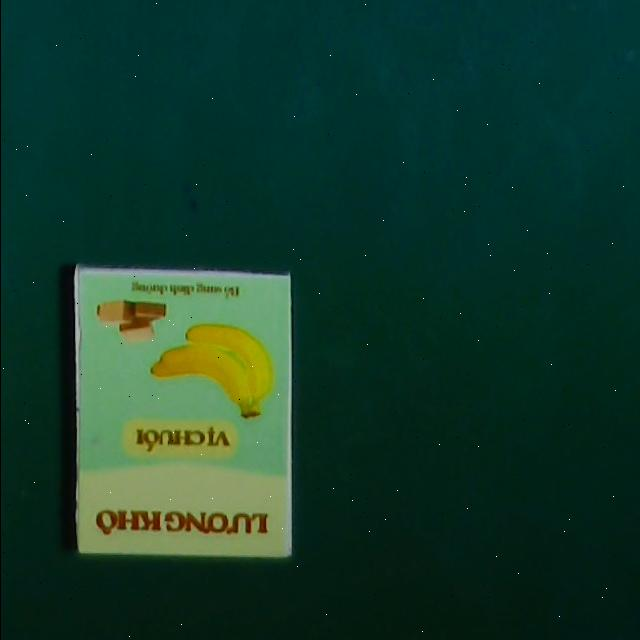chuoi: (75, 267, 291, 558)
